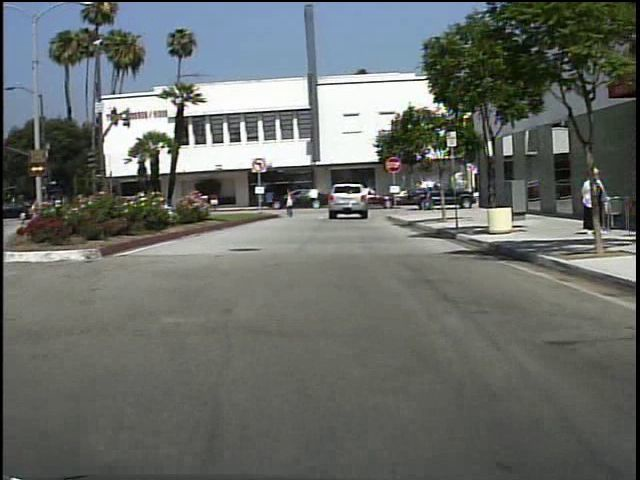person: (580, 168, 610, 236), (284, 184, 304, 219), (425, 181, 433, 214)
